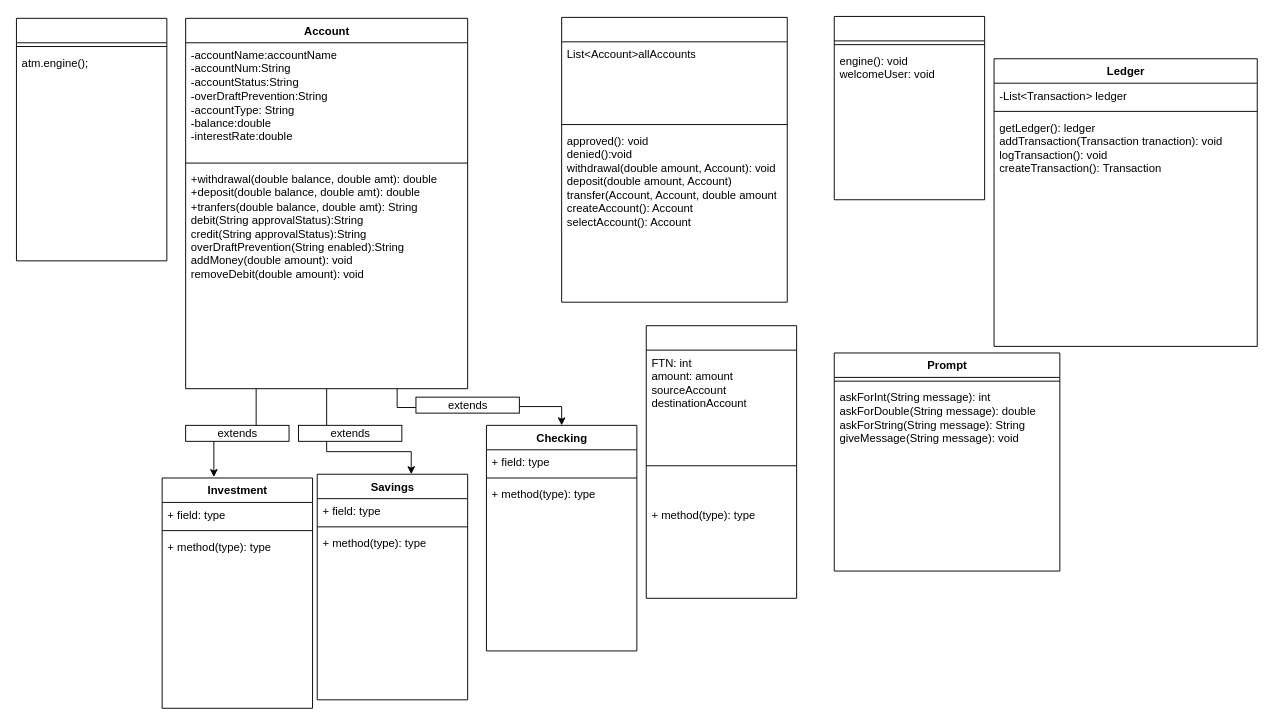
Some shapes in this 1274 by 725 pixel diagram are drawn without their labels. The box of each missing label's shape, as (x1, y1, x2, y2) in pixels:
App: (16, 17, 167, 261)
ATM: (833, 16, 985, 200)
Bank: (561, 16, 787, 302)
Transaction: (645, 325, 797, 598)
